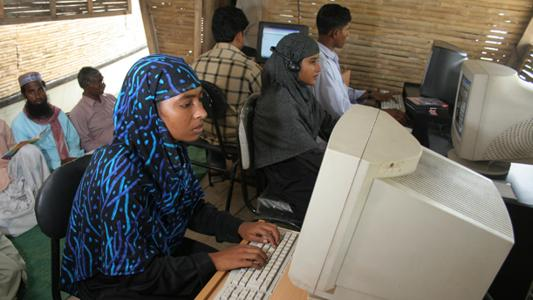person: (61, 54, 283, 300)
